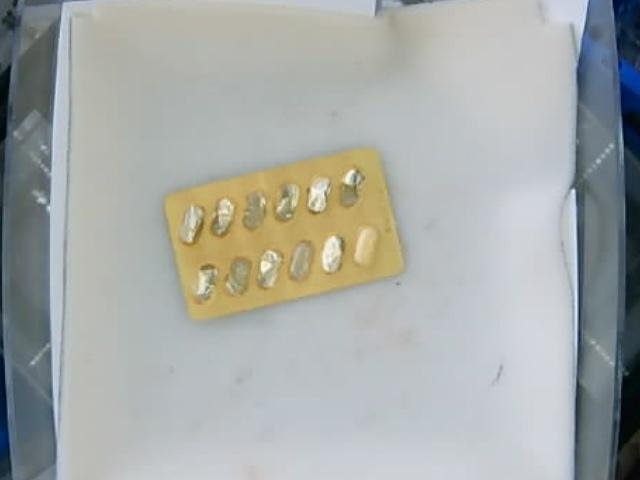Medicine: (165, 147, 404, 318)
